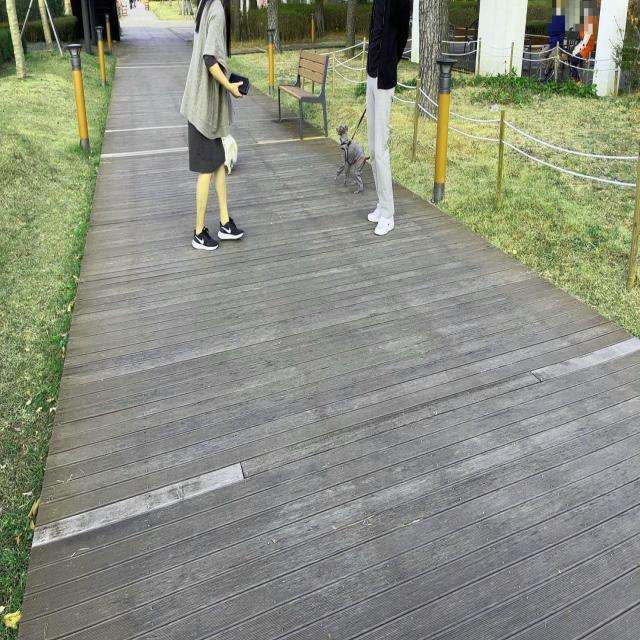Leashed_Dog: (333, 63, 396, 195)
